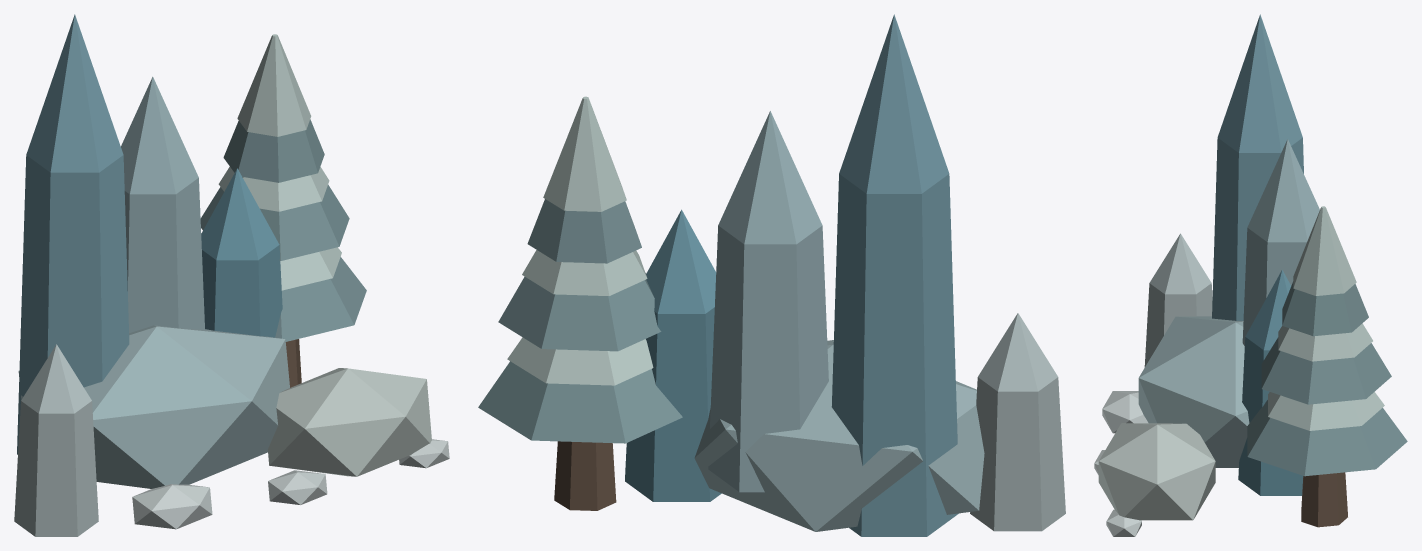
The model's file is xingyin-environment-v2__frost_crystal_garden.glb.
3 renders of one model, left to right at view 1: azimuth 30°, elevation 25°; view 2: azimuth 150°, elevation 25°; view 3: azimuth 270°, elevation 25°, orthographic. The views are drawn at different scales.
Visible parts, largest first — view 1: frost_crystal_garden; view 2: frost_crystal_garden; view 3: frost_crystal_garden.
Part boxes in pixels (box(x1,y1,x2,y2)): frost_crystal_garden: box(14, 14, 449, 536); frost_crystal_garden: box(478, 14, 1065, 536); frost_crystal_garden: box(1094, 14, 1407, 536).
Bounding box in the file's own units: 3.04 × 3.36 × 2.28.
